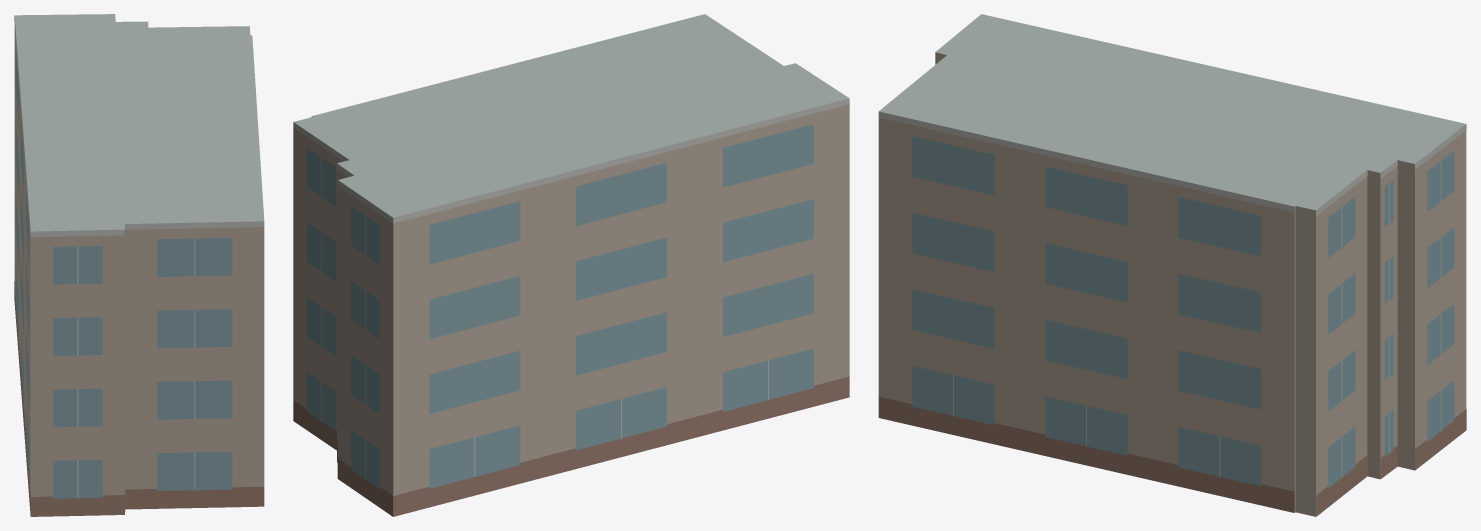
File: survey-upis-32666063.glb
3 renders of one model, left to right at view 1: azimuth 30°, elevation 25°; view 2: azimuth 150°, elevation 25°; view 3: azimuth 270°, elevation 25°, orthographic. The views are drawn at different scales.
Visible parts, largest first — view 1: survey-upis-32666063.tmp; view 2: survey-upis-32666063.tmp; view 3: survey-upis-32666063.tmp.
Boxes of the visible parts, left/top/right/bottom form: survey-upis-32666063.tmp: left=14, top=14, right=264, bottom=516; survey-upis-32666063.tmp: left=293, top=14, right=849, bottom=516; survey-upis-32666063.tmp: left=878, top=14, right=1466, bottom=516.
Size of the model in its own units: 17.06 by 12.4 by 21.57.
